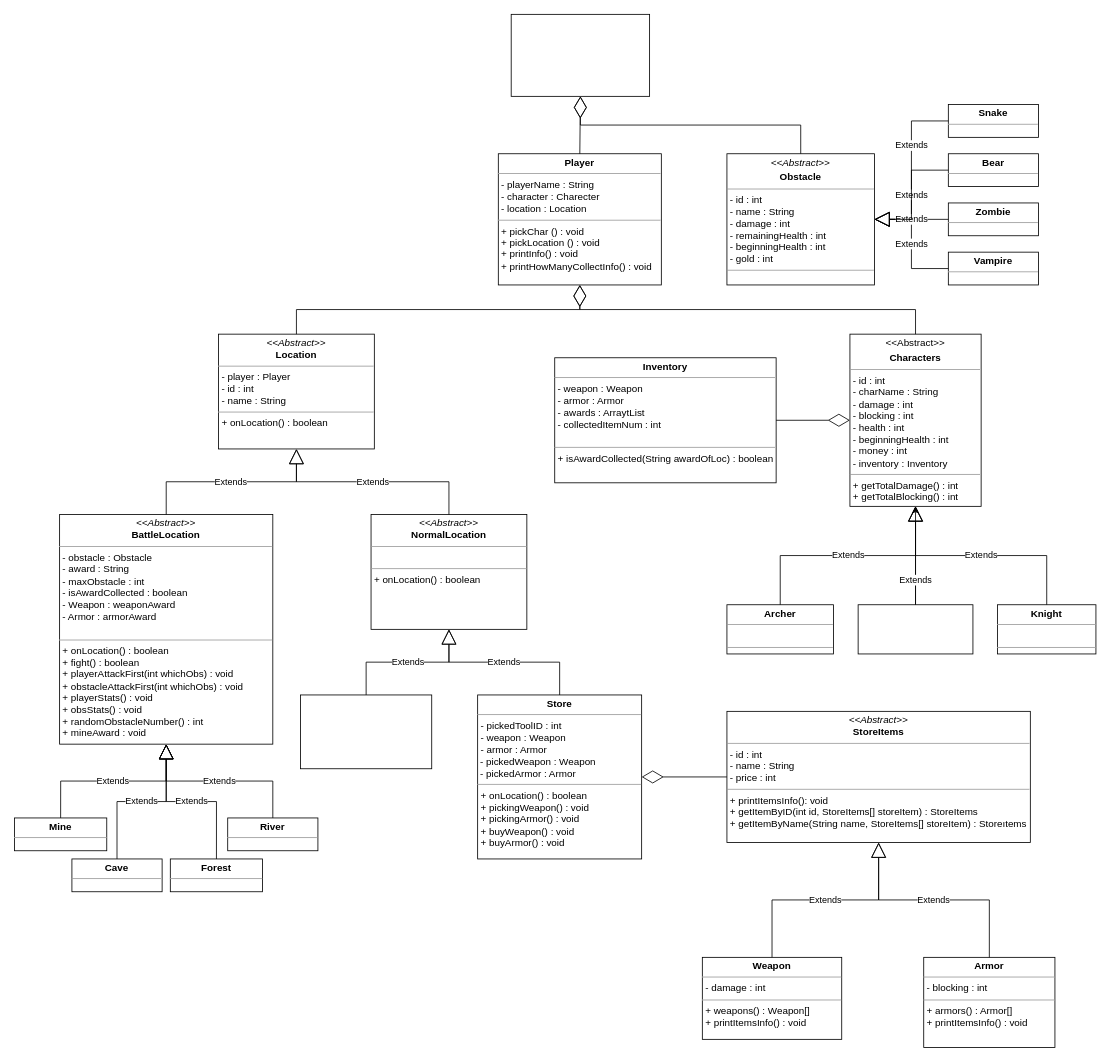
Image size: 1110x1062. Some labels were removed from this diagram. Here are the shapes that lost their labels. From the top down, the box of each, then its label:
(510, 14, 650, 96): Game - player : Player + start() : void
(857, 604, 973, 654): Samurai
(300, 694, 432, 769): SafeHouse + onLocation() : boolean
